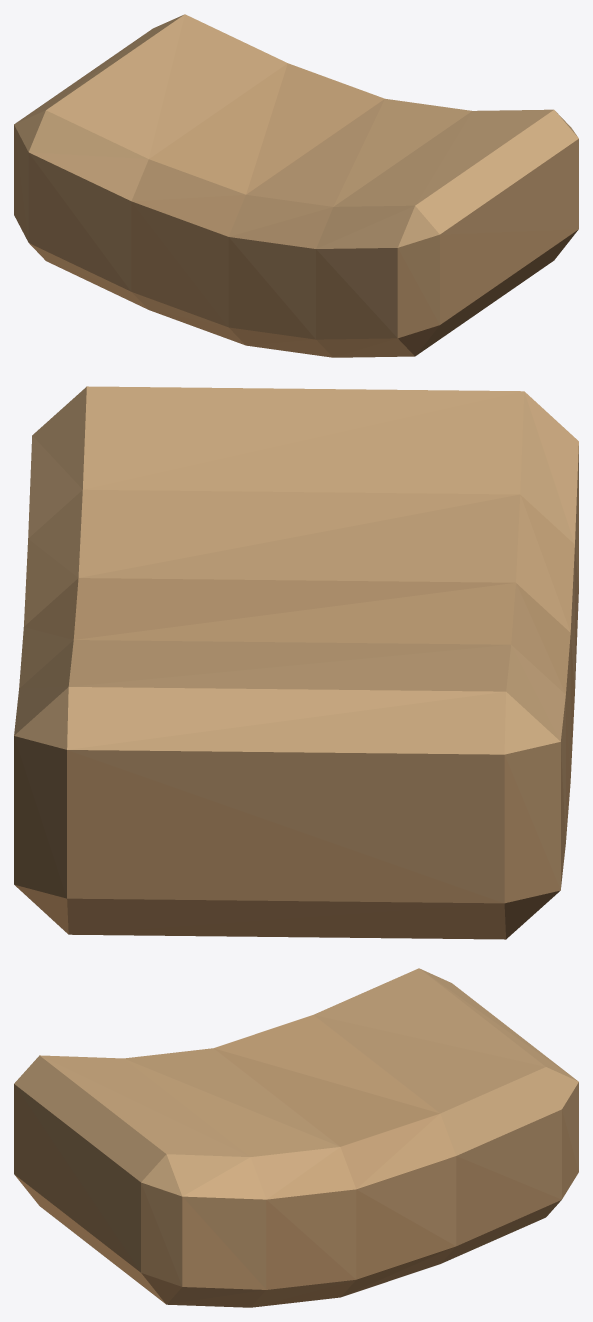
File: sack__a.glb
The picture shows the model from 3 angles, top to bottom: view 1: azimuth 30°, elevation 25°; view 2: azimuth 150°, elevation 25°; view 3: azimuth 270°, elevation 25°; orthographic projection. The views are drawn at different scales.
Parts seen in each view (by area): view 1: sack; view 2: sack; view 3: sack.
Part boxes in pixels (x1=…): sack: x1=14, y1=14, x2=578, y2=357; sack: x1=14, y1=386, x2=578, y2=939; sack: x1=14, y1=968, x2=578, y2=1307.
Size of the model in its own units: 0.5794 by 0.2352 by 0.6568.
